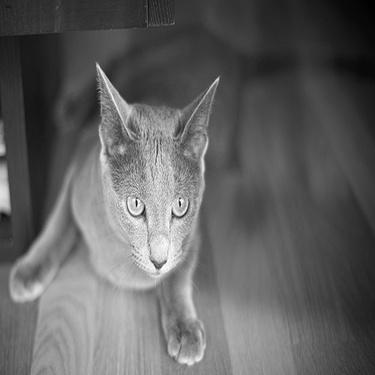cat: (7, 55, 222, 366)
